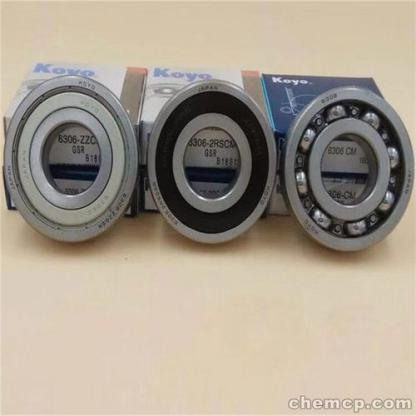FOD: (0, 74, 142, 245), (280, 83, 416, 256), (145, 75, 278, 247)
